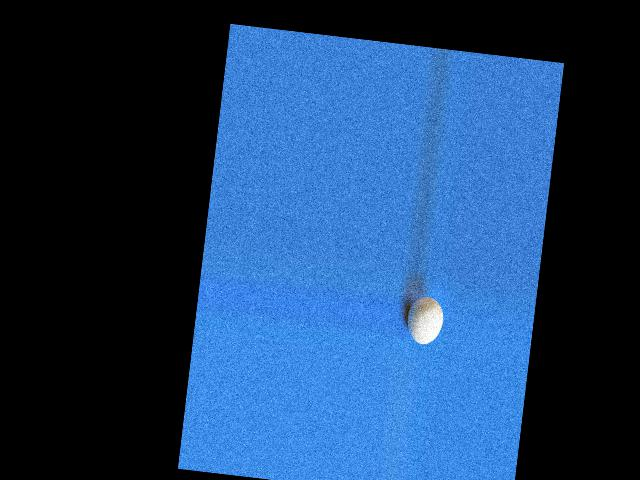egg: (404, 294, 445, 346)
